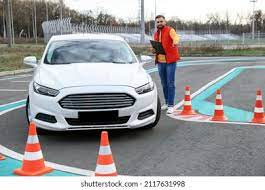car: (28, 34, 160, 133)
cone: (21, 122, 45, 173), (94, 132, 118, 176), (250, 89, 265, 127), (179, 86, 196, 117), (213, 90, 225, 120)
